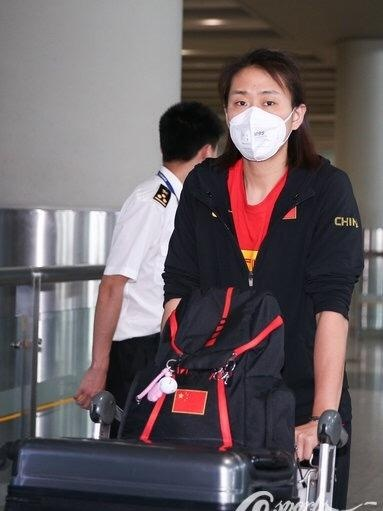Mask: (223, 87, 293, 158)
